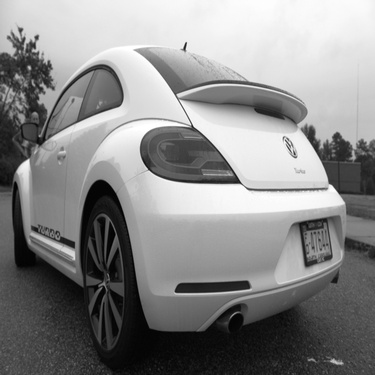car: (6, 35, 354, 371)
